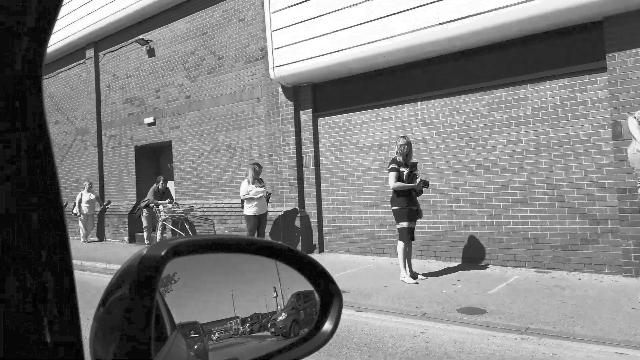berdiri: (381, 133, 433, 289)
